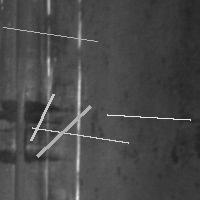scratches: (32, 101, 95, 161), (1, 100, 53, 164), (38, 4, 56, 184), (27, 122, 133, 147), (0, 22, 102, 46), (71, 11, 84, 199), (26, 89, 58, 145), (102, 109, 195, 124), (12, 1, 25, 91)
